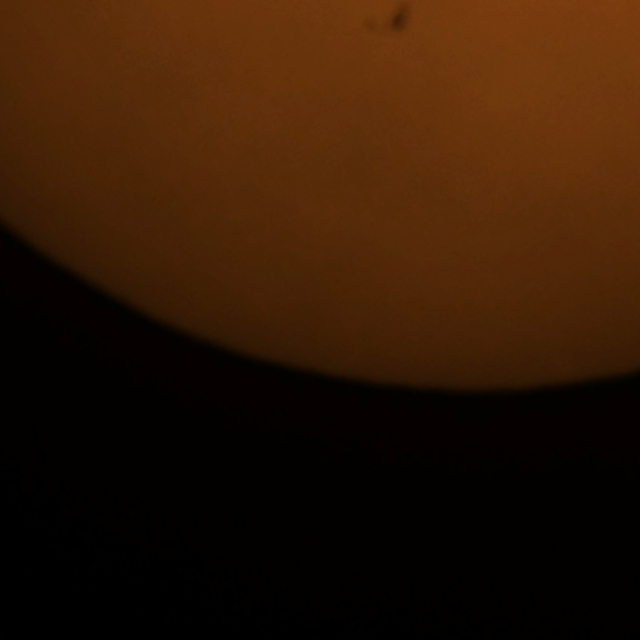sunspot: (357, 0, 425, 49)
